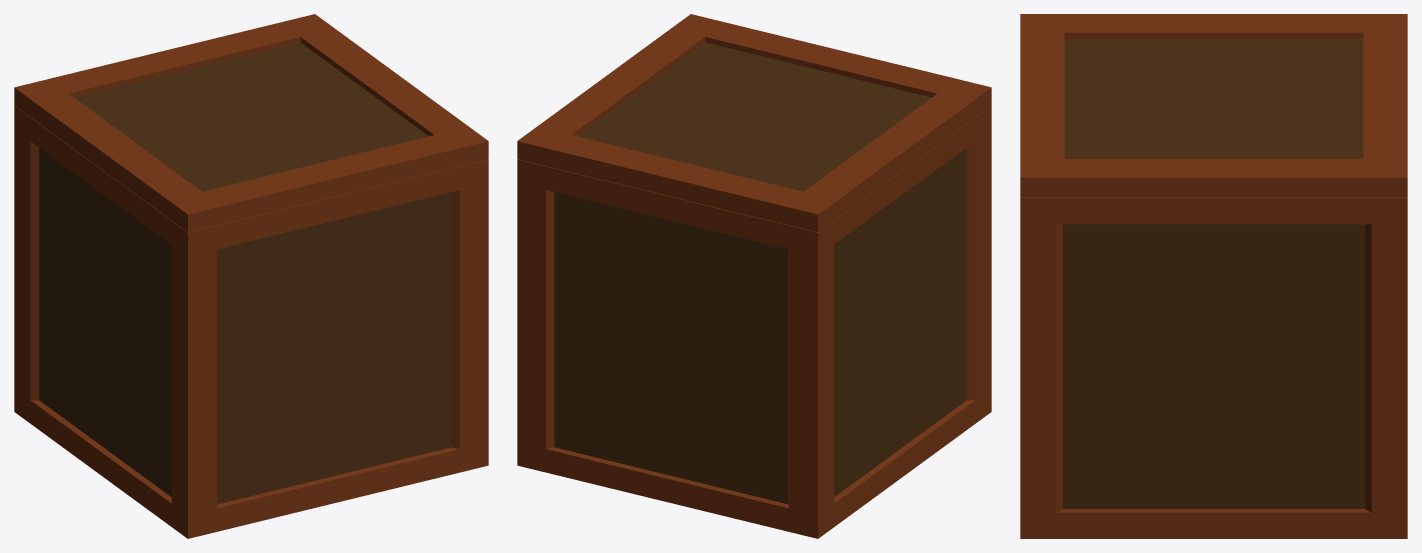
File: crate.fbx
3 renders of one model, left to right at view 1: azimuth 30°, elevation 25°; view 2: azimuth 150°, elevation 25°; view 3: azimuth 270°, elevation 25°, orthographic. The views are drawn at different scales.
Parts seen in each view (by area): view 1: Crate, Crate Lid; view 2: Crate, Crate Lid; view 3: Crate, Crate Lid.
Part boxes in pixels (x1,y1,x2,y2): Crate: (14, 105, 488, 538); Crate Lid: (14, 14, 488, 232); Crate: (517, 105, 991, 538); Crate Lid: (517, 14, 991, 232); Crate: (1020, 197, 1407, 538); Crate Lid: (1020, 14, 1407, 197).
Size of the model in its own units: 72.55 by 72.55 by 74.76.
